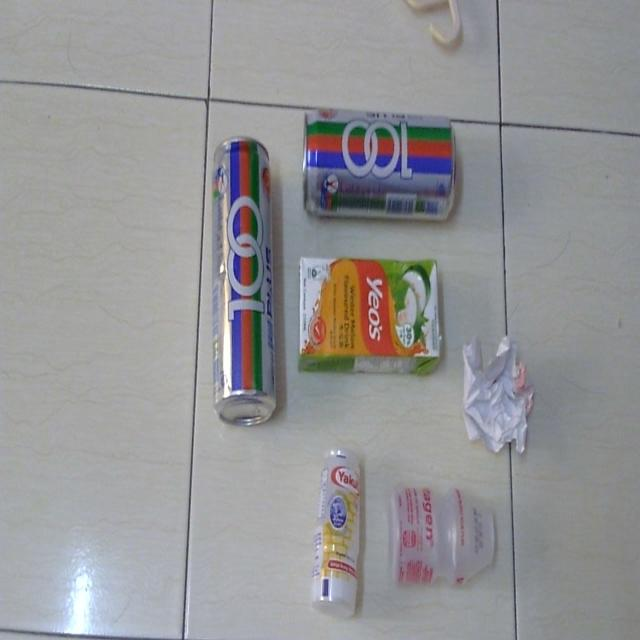metal_laydown_0rotation: (297, 104, 466, 226)
metal_laydown_90rotation: (208, 133, 282, 431)
paperrotation: (454, 332, 543, 468)
plastic_laydown_0rotation: (296, 251, 448, 380), (387, 468, 505, 602)
plastic_laydown_90rotation: (309, 438, 364, 624)
